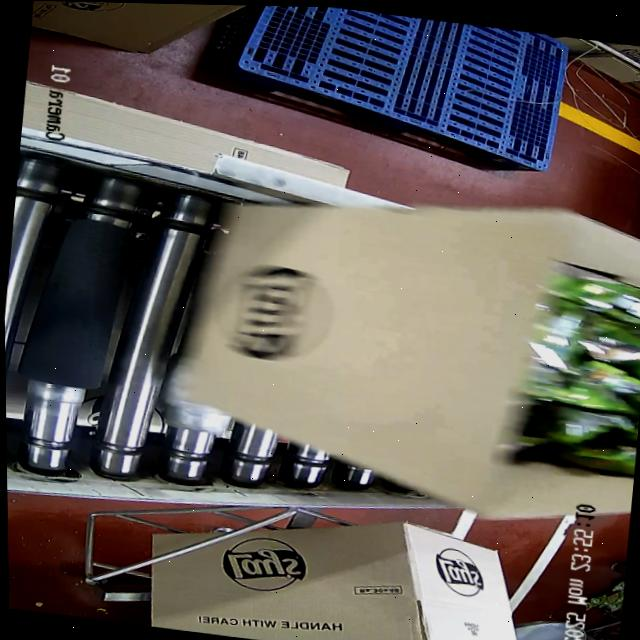YOGURT_HERB: (502, 243, 640, 472)
